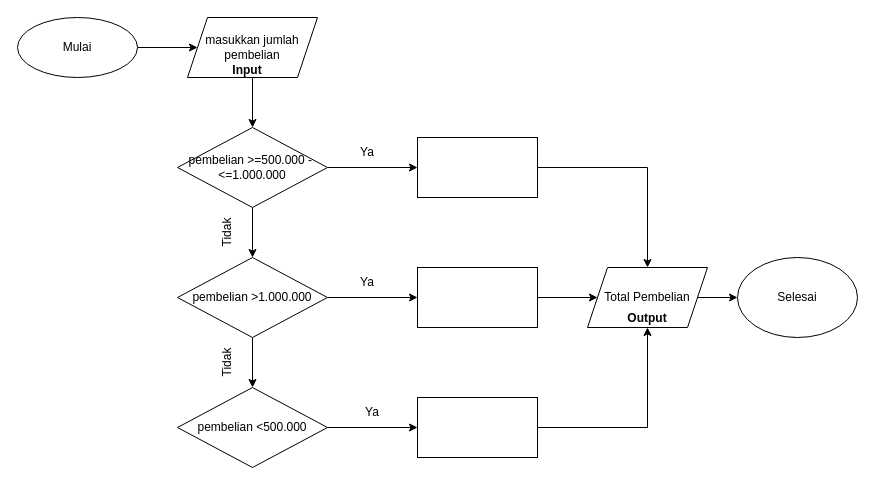
This 875x485 diagram has some shape labels left out. Here are the shapes that lost their labels. From the top down, the centre of each, then its label:
At (x=477, y=167): "Diskon 5%".
At (x=477, y=297): "Diskon 10%".
At (x=477, y=427): "no diskon".
